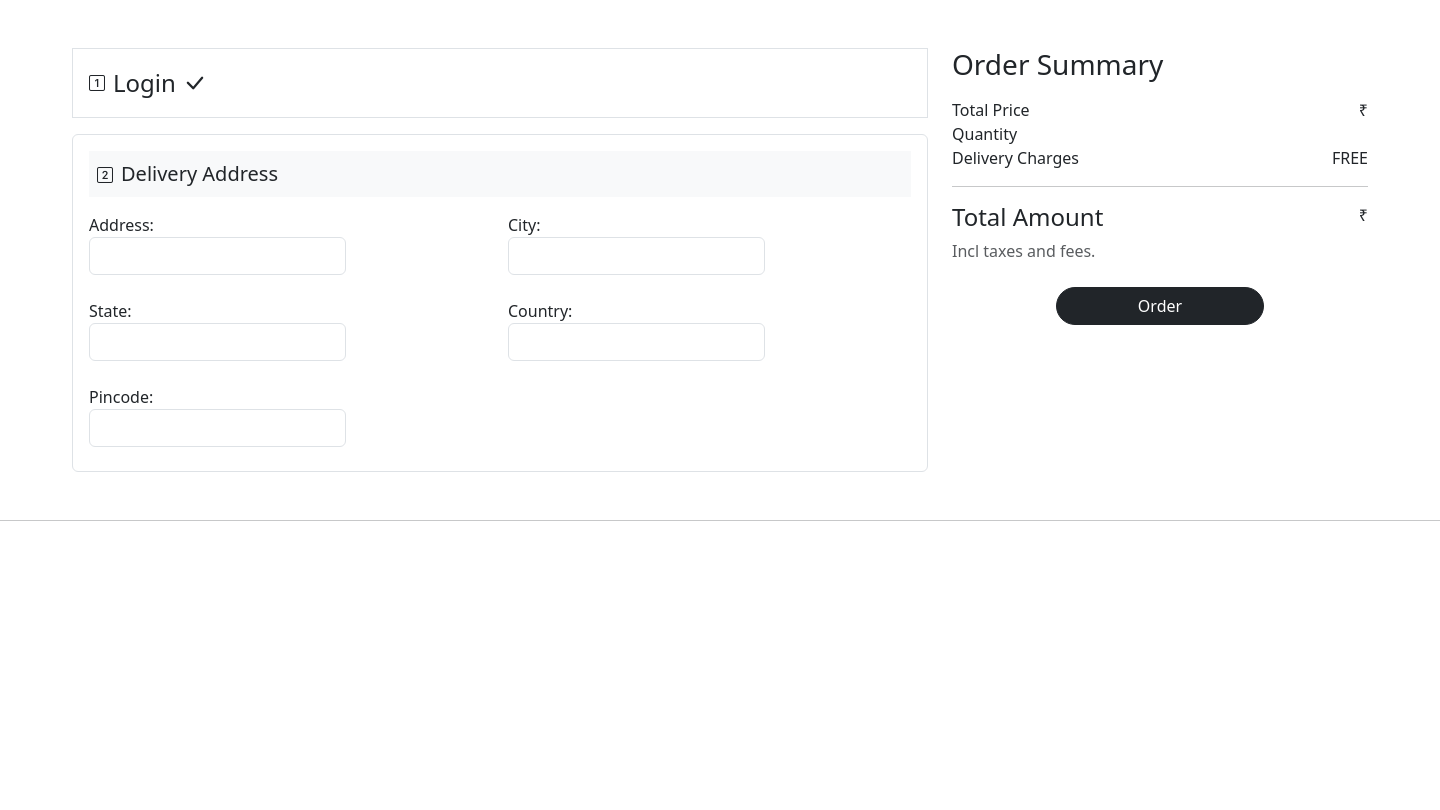
it: Order Component › validates form fields and shows errors when required fields are missing
Simulate clicking the order button without filling out the form
Click the button "Order": (1160, 306) [1056, 287, 1264, 325]
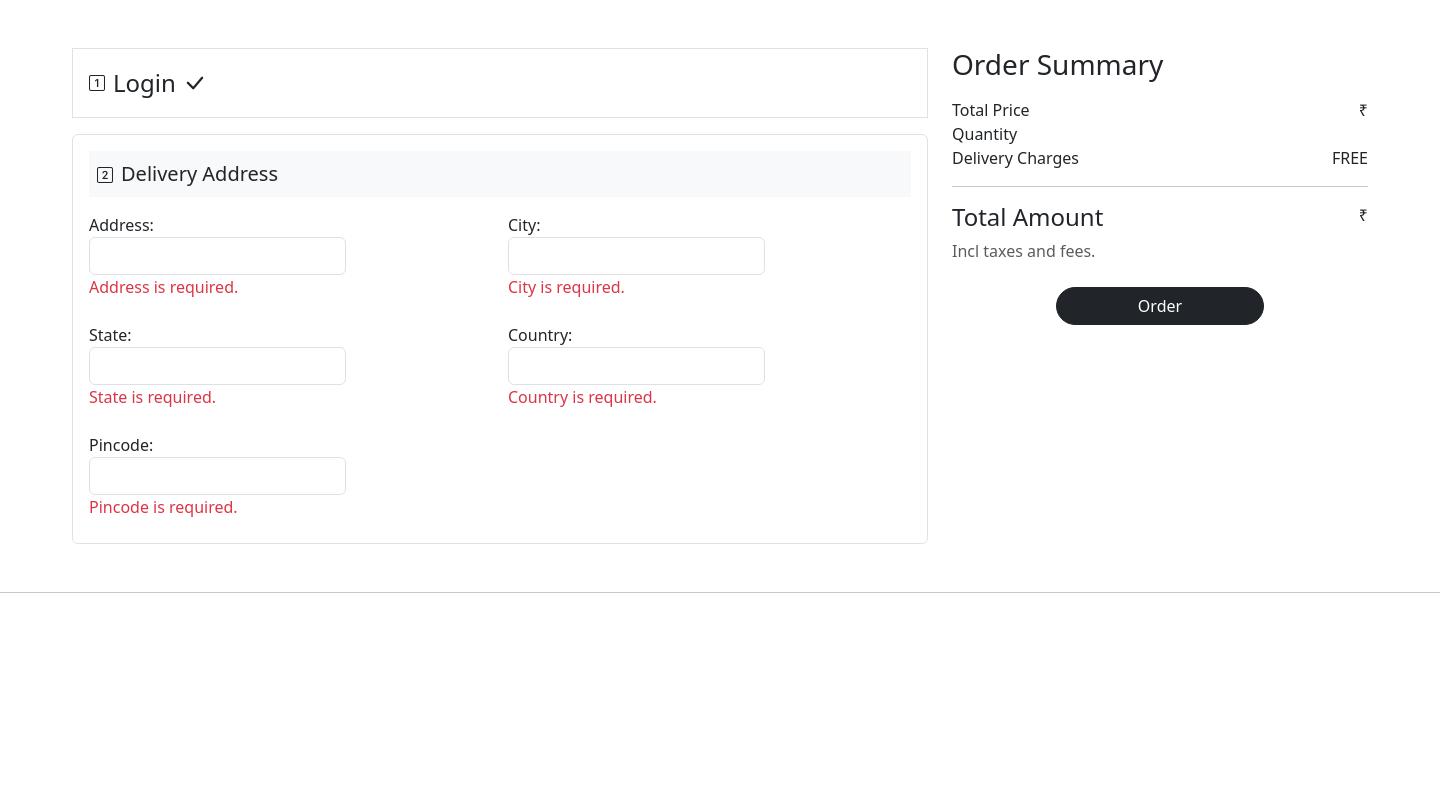
Expected: the text "Address is required." is shown, [89, 276, 238, 298]
Expected: the text "City is required." is shown, [508, 276, 625, 298]
Expected: the text "State is required." is shown, [89, 386, 216, 408]
